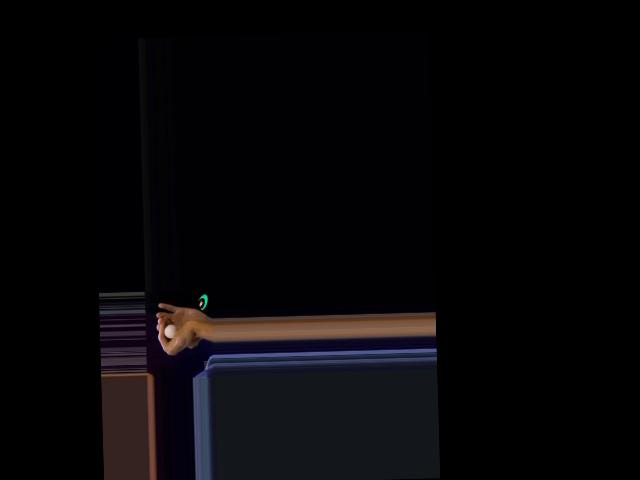egg: (164, 324, 175, 339)
